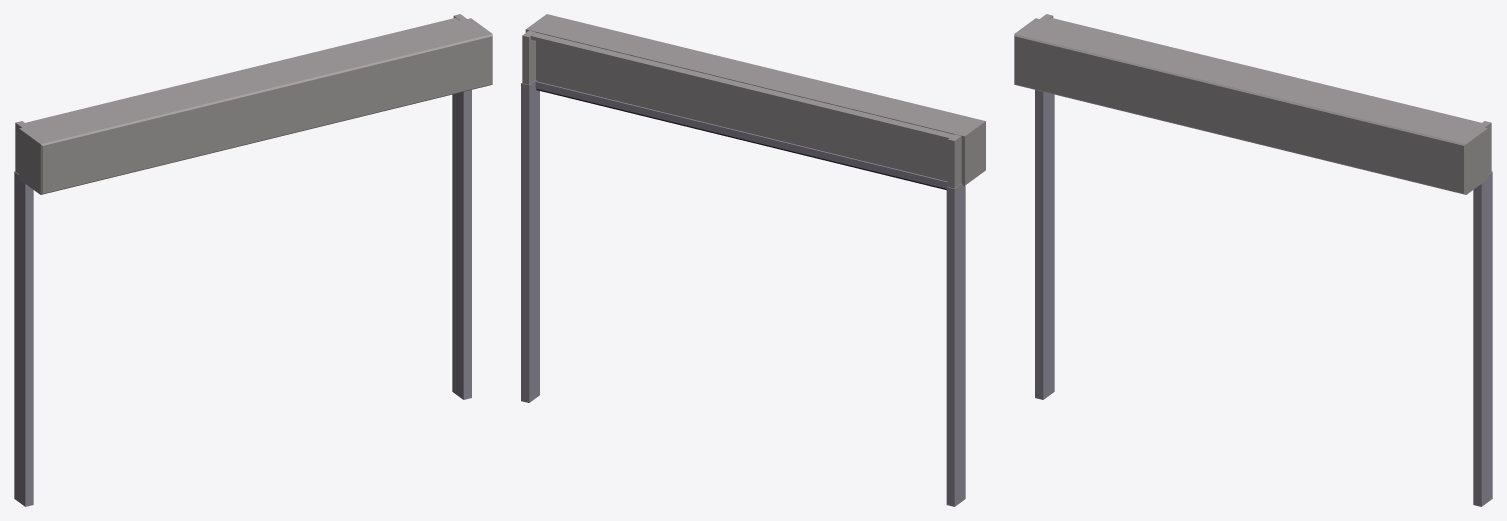
Rendered from SM_Opening_ShopShutterS30_Open_01.gltf.
The picture shows the model from 3 angles, left to right: view 1: azimuth 30°, elevation 25°; view 2: azimuth 150°, elevation 25°; view 3: azimuth 330°, elevation 25°; orthographic projection. The views are drawn at different scales.
Visible parts, largest first — view 1: SM_Opening_ShopShutterS30_Open_01; view 2: SM_Opening_ShopShutterS30_Open_01; view 3: SM_Opening_ShopShutterS30_Open_01.
Boxes of the visible parts, left/top/right/bottom form: SM_Opening_ShopShutterS30_Open_01: left=14, top=14, right=492, bottom=506; SM_Opening_ShopShutterS30_Open_01: left=521, top=14, right=985, bottom=506; SM_Opening_ShopShutterS30_Open_01: left=1014, top=14, right=1492, bottom=506.
Size of the model in its own units: 3.26 by 2.6 by 0.375.
Materials: 1 (1 with a texture image).
